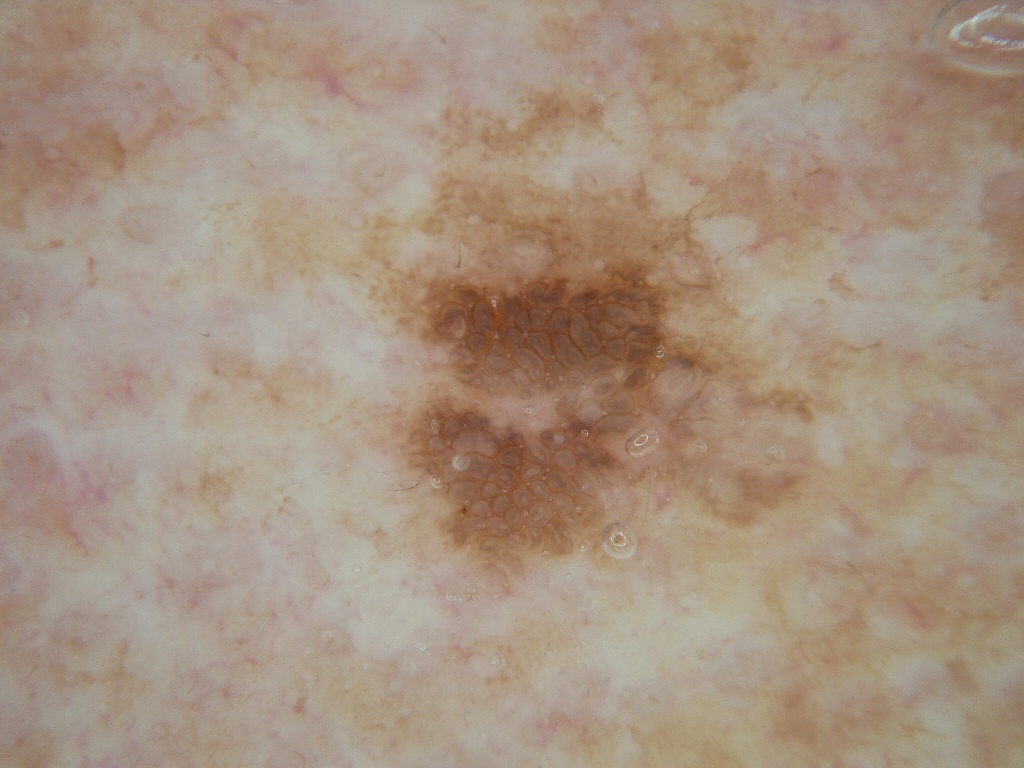Detected Lesion: (388, 224, 737, 572)
